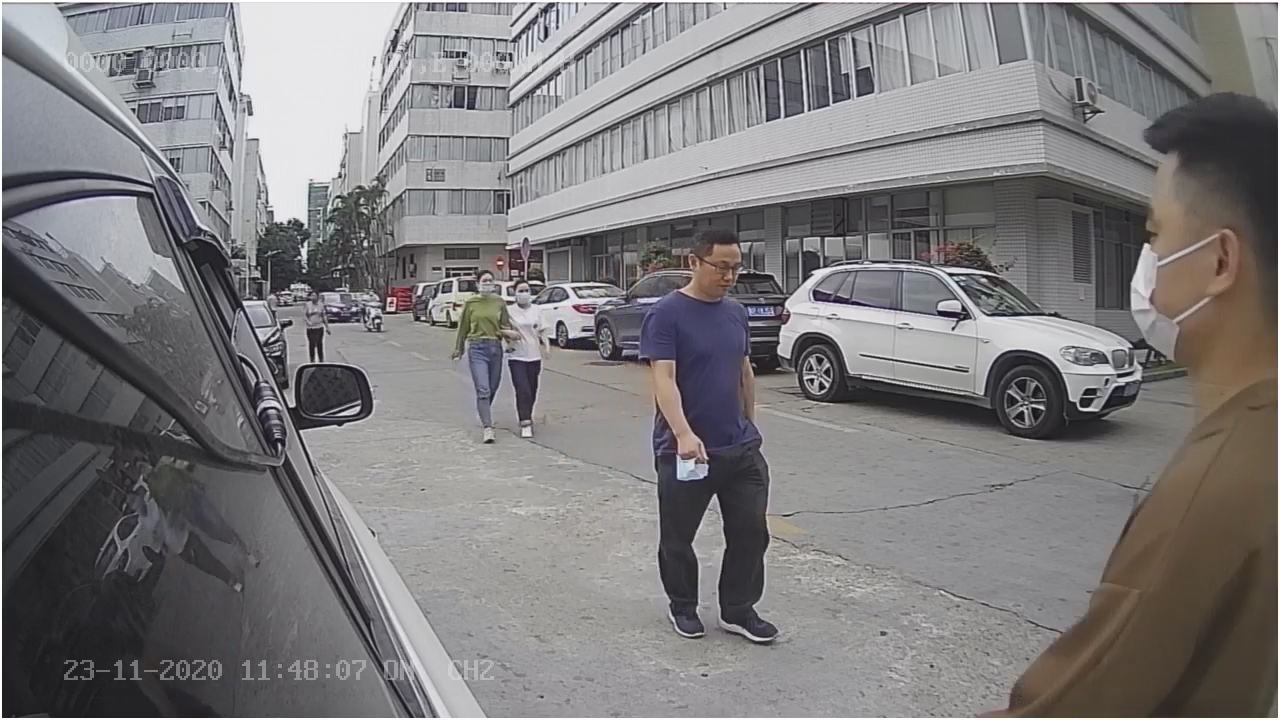person: (642, 226, 778, 645), (445, 264, 509, 446)
